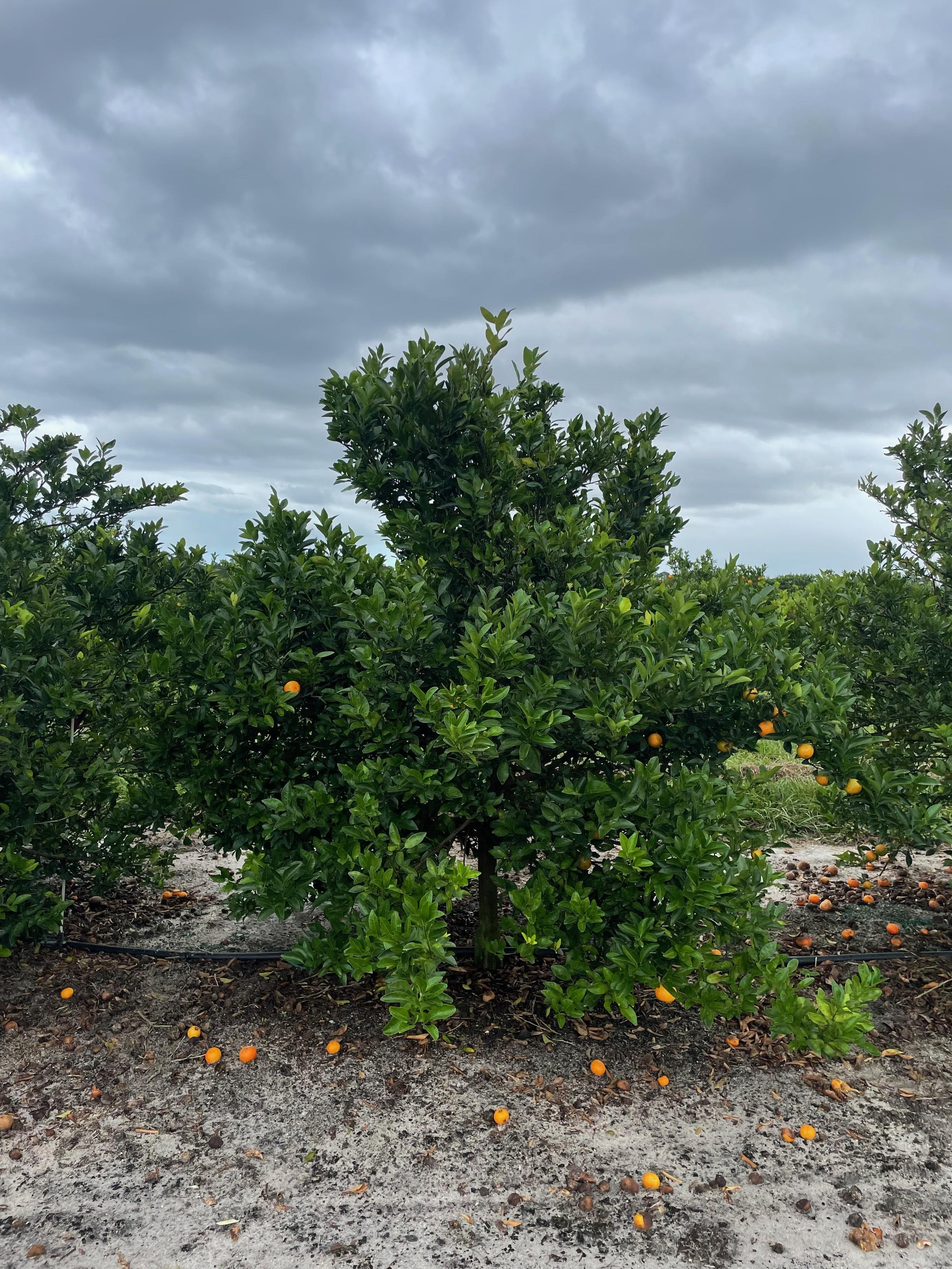fruit_on_ground: (653, 980, 680, 1004), (281, 676, 304, 698), (573, 850, 595, 873), (756, 718, 779, 740), (739, 683, 762, 704), (814, 767, 836, 787), (645, 730, 665, 751), (766, 704, 788, 723), (842, 776, 863, 795), (714, 736, 735, 755), (795, 741, 816, 760), (749, 846, 766, 862), (863, 849, 878, 863), (874, 843, 889, 857)
fruit_on_tree: (640, 1169, 661, 1190), (620, 1175, 641, 1195), (632, 1211, 652, 1231), (237, 1044, 257, 1064), (588, 1057, 608, 1076), (492, 1106, 511, 1126), (204, 1045, 223, 1064), (779, 1126, 798, 1144), (324, 1038, 342, 1057), (799, 1122, 817, 1141), (185, 1023, 203, 1039), (1, 1112, 16, 1131), (59, 984, 76, 1000), (479, 987, 497, 1002), (795, 933, 813, 948), (724, 1032, 741, 1047), (708, 946, 725, 960), (818, 897, 834, 911), (88, 894, 104, 907), (656, 1073, 670, 1087), (845, 875, 860, 888), (807, 890, 822, 903), (926, 898, 942, 910), (796, 857, 810, 870), (890, 935, 905, 947), (863, 860, 878, 872), (840, 927, 855, 939), (863, 891, 876, 904), (782, 870, 796, 882), (824, 862, 838, 874), (886, 921, 900, 933), (877, 875, 891, 887), (860, 879, 873, 891), (817, 875, 830, 886), (917, 878, 930, 889), (160, 890, 173, 901), (794, 895, 807, 905), (942, 862, 952, 874), (171, 888, 182, 898), (177, 890, 189, 899)
